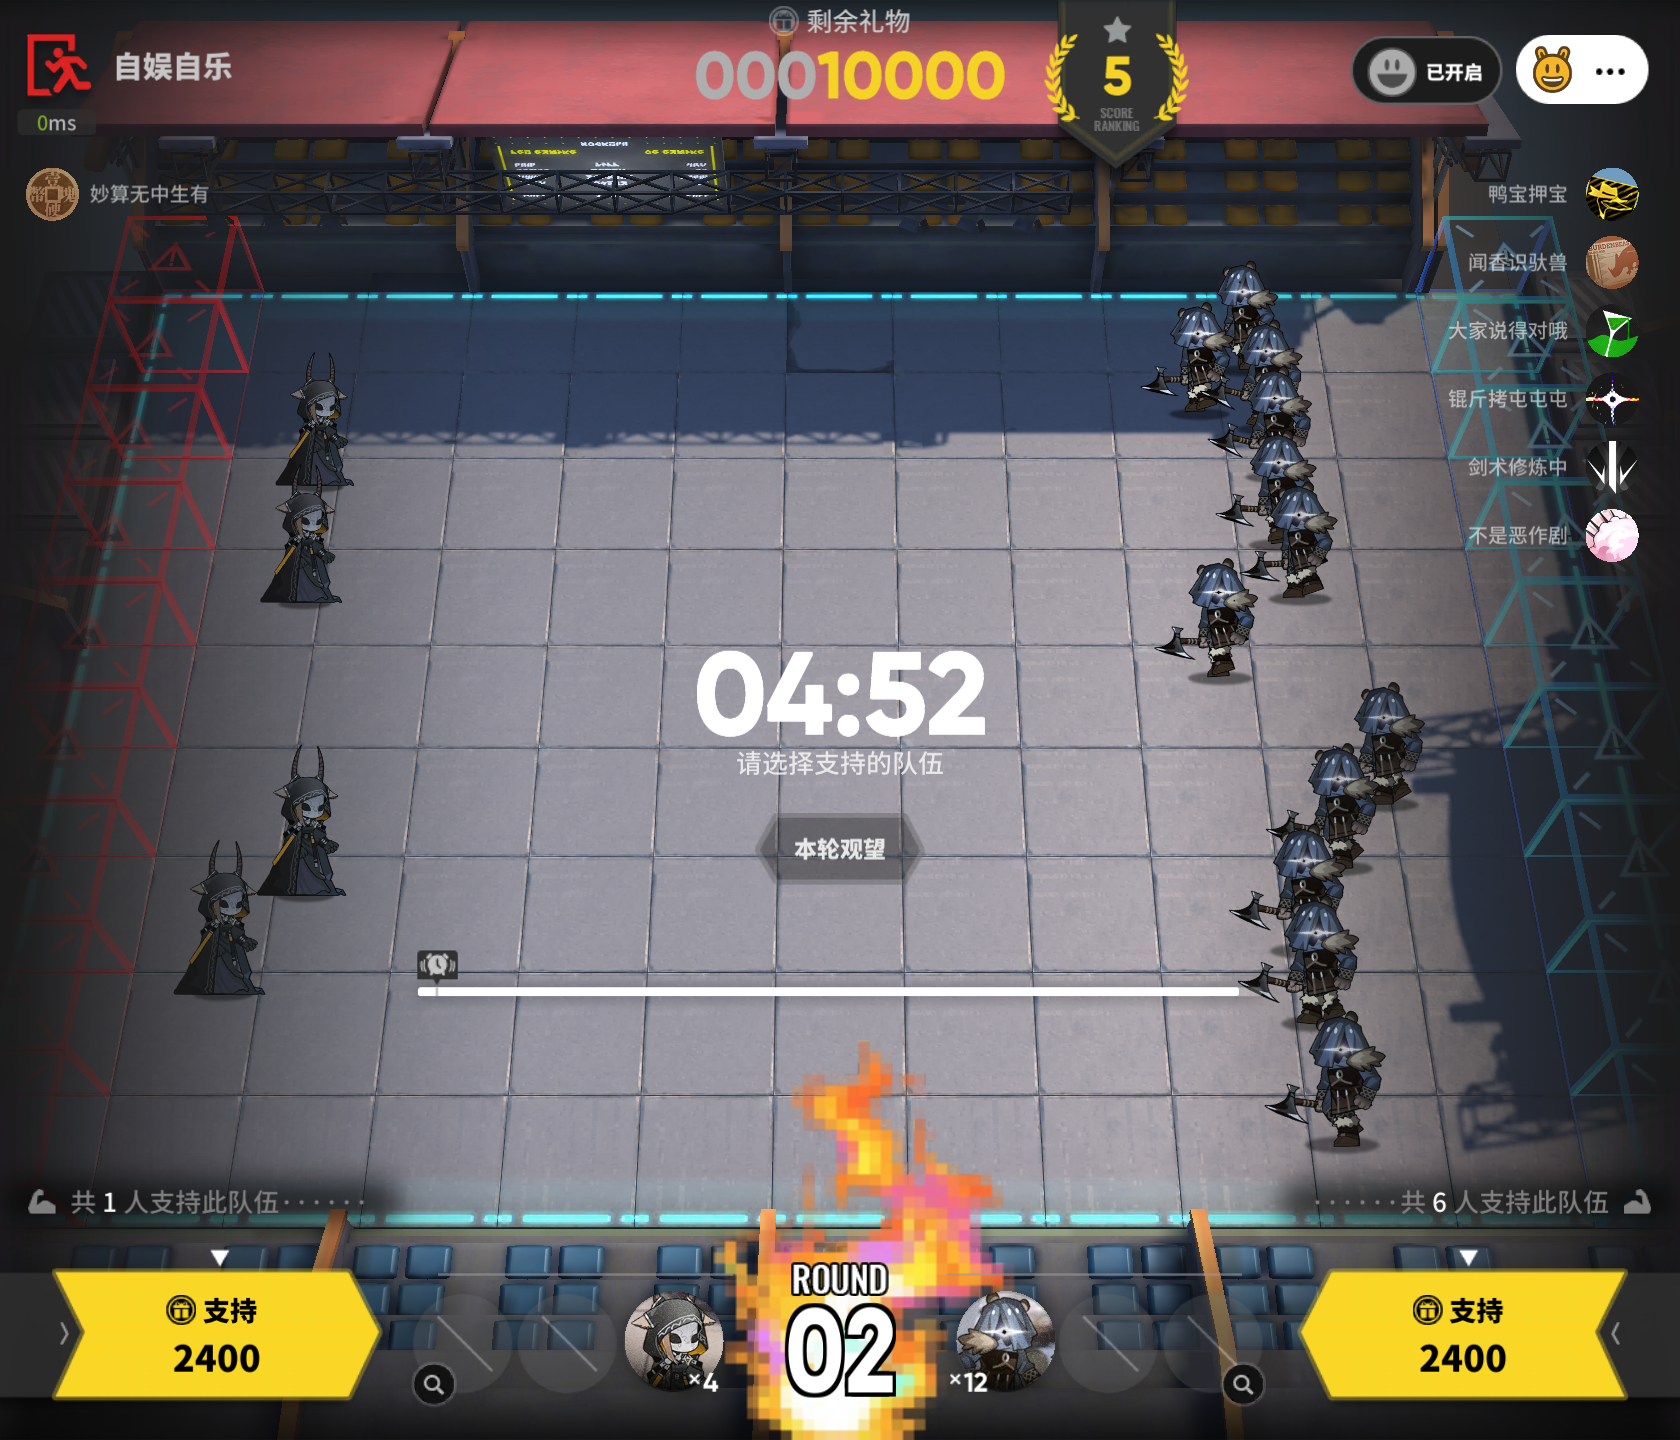奔跑吧！躯壳！: (1154, 557, 1259, 677), (949, 1290, 1054, 1391), (1140, 301, 1236, 411), (1307, 1011, 1384, 1147), (1281, 899, 1359, 1021), (1351, 681, 1423, 804), (1263, 477, 1336, 597), (1266, 810, 1344, 913), (1306, 744, 1376, 839), (1249, 431, 1316, 514), (1243, 367, 1311, 447), (1236, 321, 1301, 401), (1217, 261, 1279, 339)
扩音术师: (173, 839, 266, 997), (254, 744, 346, 897), (274, 351, 354, 490), (631, 1286, 726, 1394), (259, 491, 341, 604)
